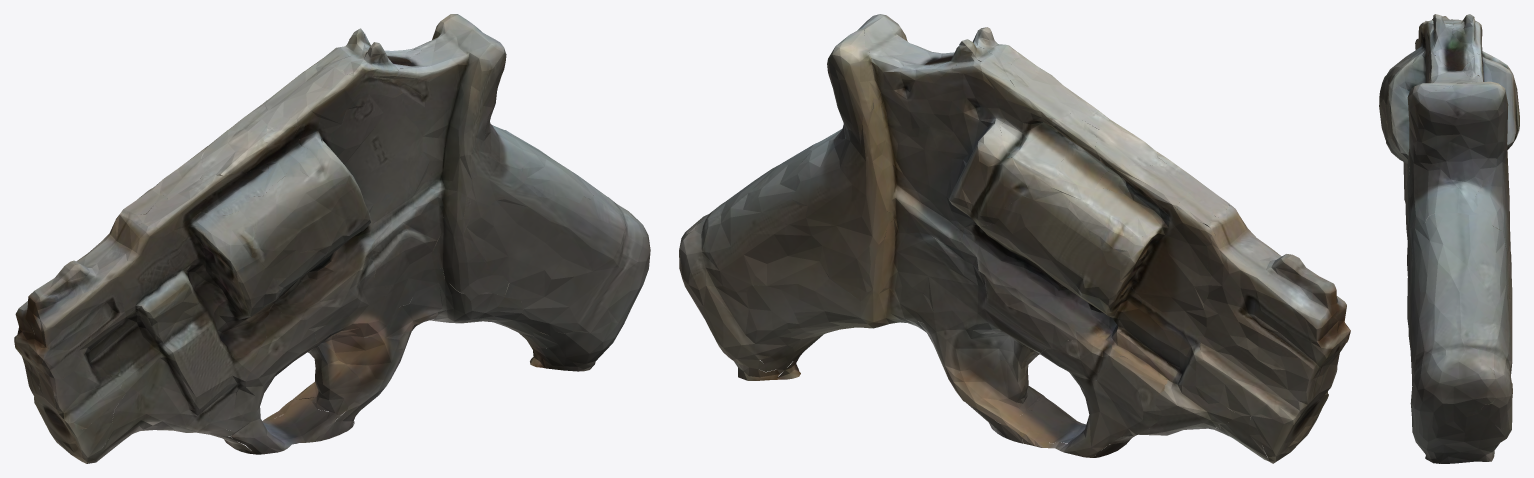
The model's file is Einhorn Bake.glb.
3 renders of one model, left to right at view 1: azimuth 30°, elevation 25°; view 2: azimuth 150°, elevation 25°; view 3: azimuth 270°, elevation 25°, orthographic. The views are drawn at different scales.
Visible parts, largest first — view 1: Mesh_0; view 2: Mesh_0; view 3: Mesh_0.
Part boxes in pixels (<box>): Mesh_0: <box>14,14,650,463</box>; Mesh_0: <box>679,14,1350,463</box>; Mesh_0: <box>1379,14,1519,463</box>.
Bounding box in the file's own units: 1.04 × 0.5963 × 0.2171.
Materials: 1 (1 with a texture image).
